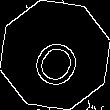O_NE: (24, 22, 86, 88)
